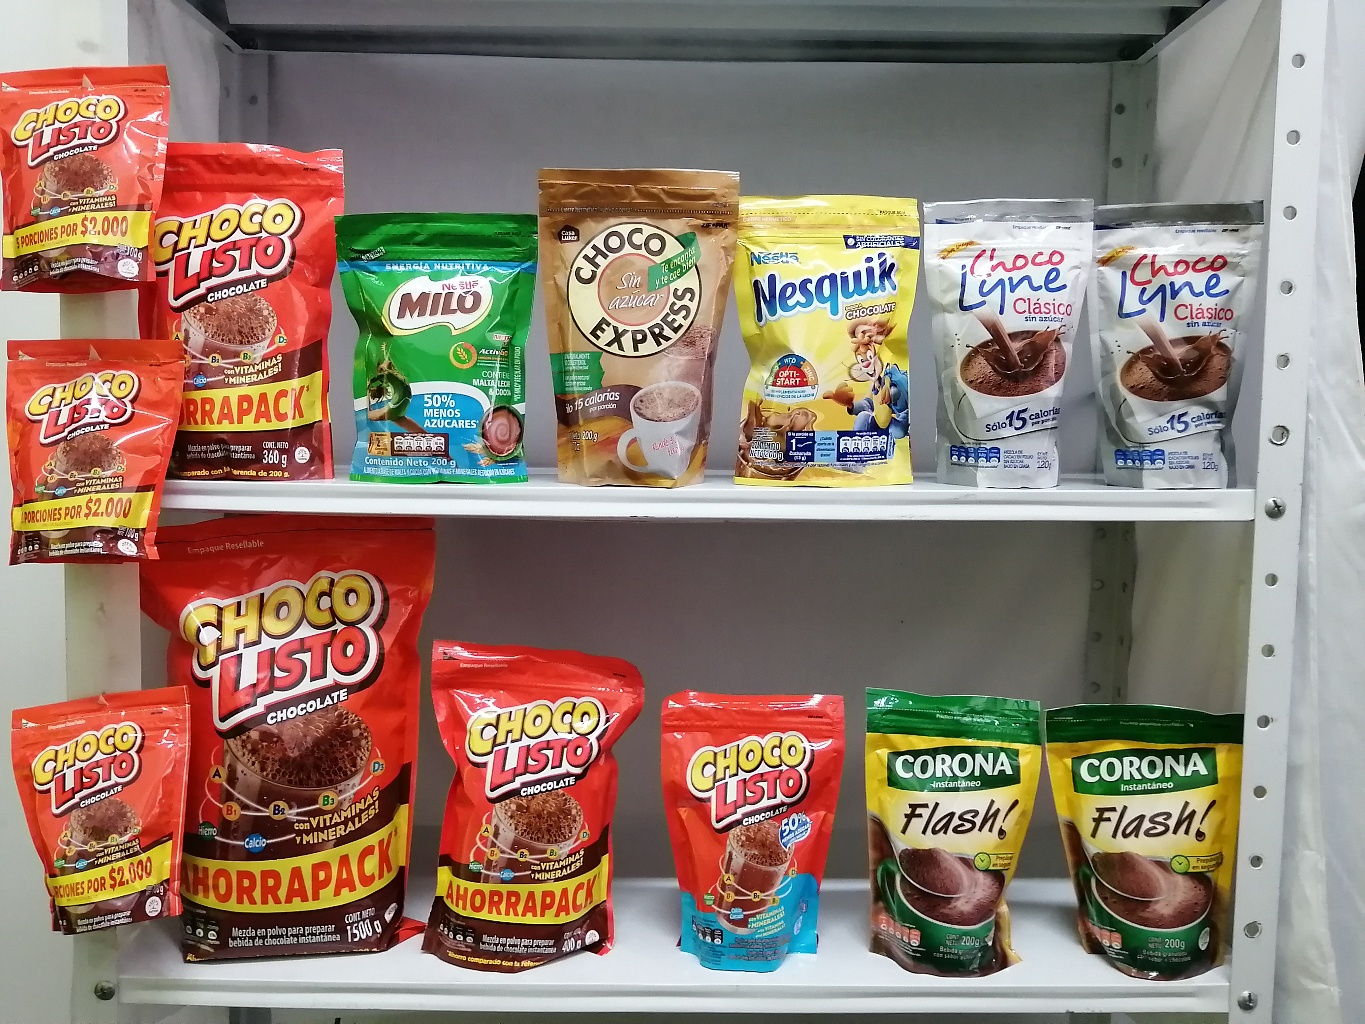COL0170103DYP1,500: (120, 495, 445, 990)
COL0170103DYP10000: (12, 679, 208, 936)
COL0170103DYP36000: (123, 131, 360, 488)
COL0170103DYP40000: (418, 631, 655, 986)
COL0170104DYP20000: (640, 664, 862, 981)
COL0170205DYP20000: (327, 195, 551, 486)
COL0170303DYP20000: (725, 179, 925, 488)
